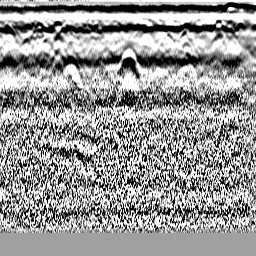cavity: (116, 46, 140, 75)
